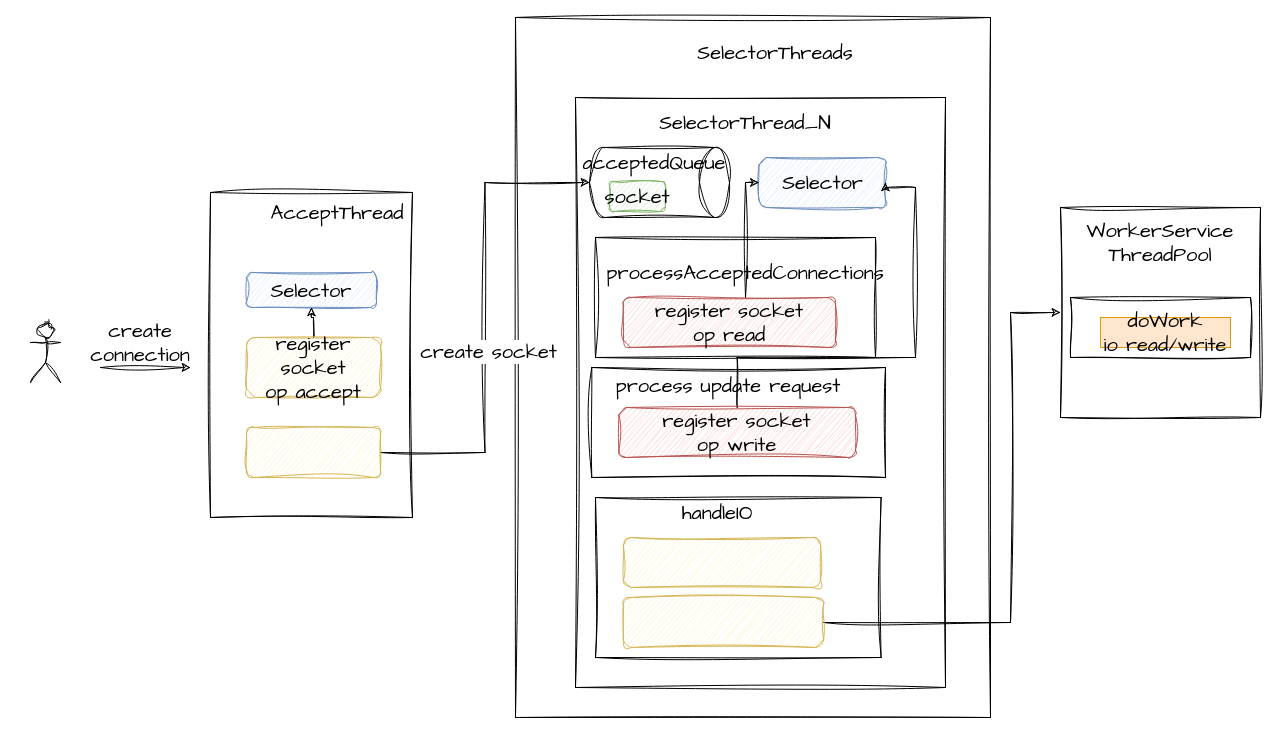
Some shapes in this 1278 by 735 pixel diagram are drawn without their labels. Each missing label, with the box of its shape:
Actor: (30, 322, 60, 382)
doAccept: (246, 426, 380, 478)
new WorkRequest: (622, 536, 820, 588)
submit WorkRequest: (622, 596, 824, 648)
